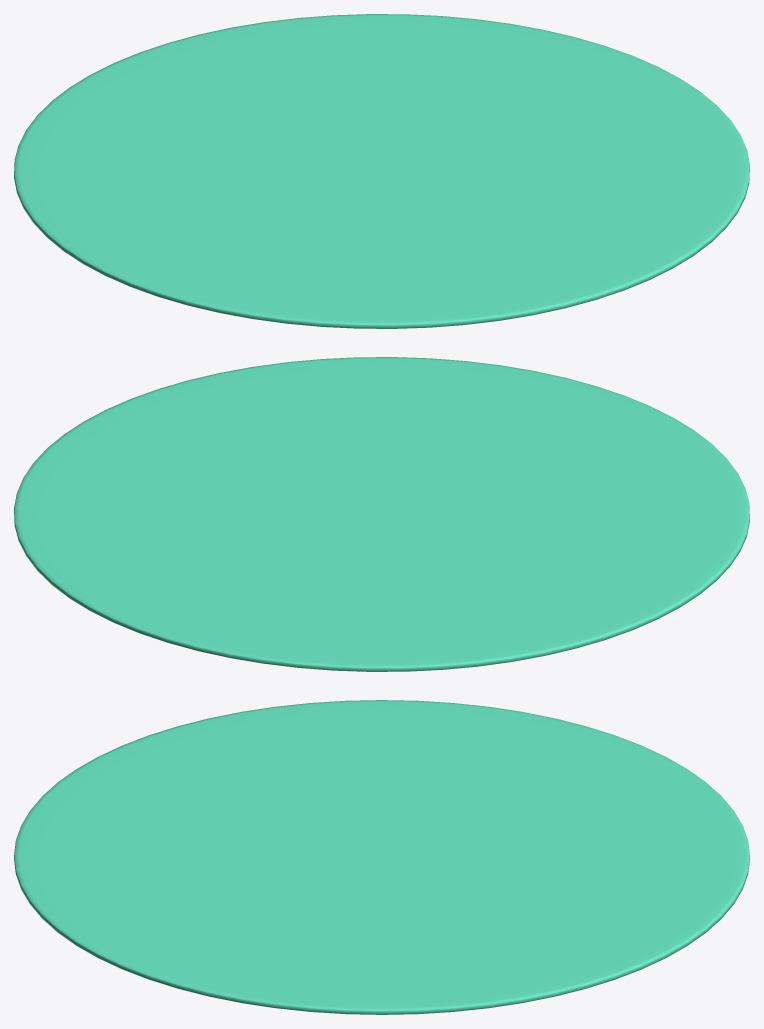
File: BlueCarpet.fbx
3 views of the same model, one above another, from view 1: azimuth 30°, elevation 25°; view 2: azimuth 150°, elevation 25°; view 3: azimuth 270°, elevation 25° (orthographic).
Parts seen in each view (by area): view 1: Circle; view 2: Circle; view 3: Circle.
Boxes of the visible parts, left/top/right/bottom form: Circle: left=14, top=14, right=749, bottom=328; Circle: left=14, top=357, right=749, bottom=671; Circle: left=14, top=700, right=749, bottom=1014.
Size of the model in its own units: 1913 by 14.7 by 1913.
